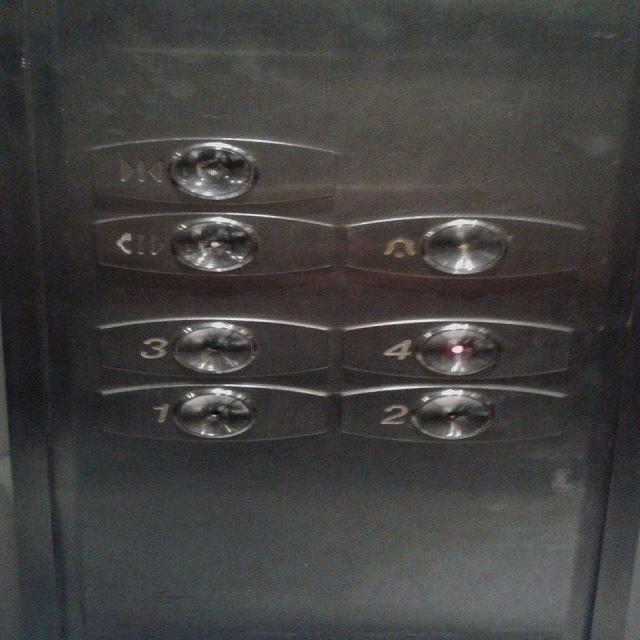1: (92, 379, 332, 444)
2: (334, 381, 574, 446)
3: (92, 313, 332, 377)
4: (337, 315, 571, 378)
alarm: (341, 210, 597, 280)
close: (78, 132, 349, 208)
open: (80, 209, 339, 279)
